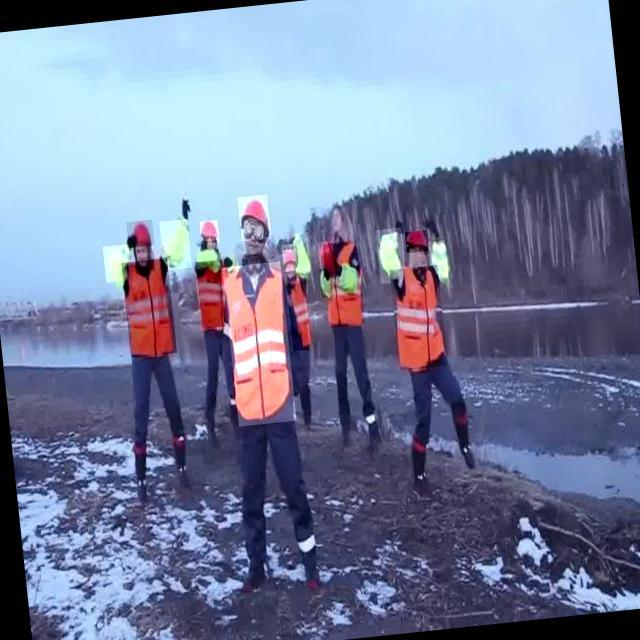Gloves: (216, 392, 243, 438), (175, 188, 198, 232), (421, 208, 445, 245), (386, 213, 410, 236), (120, 229, 141, 251)
Helmet: (237, 194, 272, 241), (126, 219, 155, 248), (318, 241, 340, 276), (405, 230, 429, 254), (199, 220, 220, 246), (282, 249, 298, 272)
Person: (218, 184, 310, 605), (95, 170, 206, 517), (374, 197, 484, 505), (316, 190, 372, 459)
Safety Boot: (237, 532, 273, 596), (123, 439, 155, 509), (403, 434, 435, 497), (449, 412, 478, 480), (294, 536, 325, 595), (165, 430, 193, 495), (360, 405, 384, 452), (335, 415, 357, 454)
Safety Vest: (222, 261, 296, 426), (390, 265, 448, 371), (121, 258, 176, 357), (318, 239, 369, 333), (195, 260, 226, 329), (287, 282, 310, 351)
no-boot: (103, 239, 136, 291), (377, 233, 409, 282), (428, 235, 458, 287), (164, 223, 193, 270), (293, 234, 313, 284), (312, 261, 334, 300), (196, 249, 225, 274), (343, 259, 360, 298)
